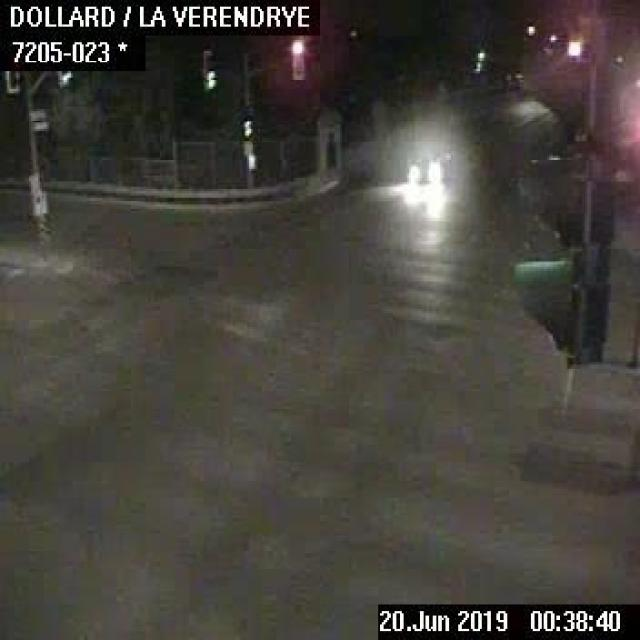vehicle: (404, 143, 456, 185)
